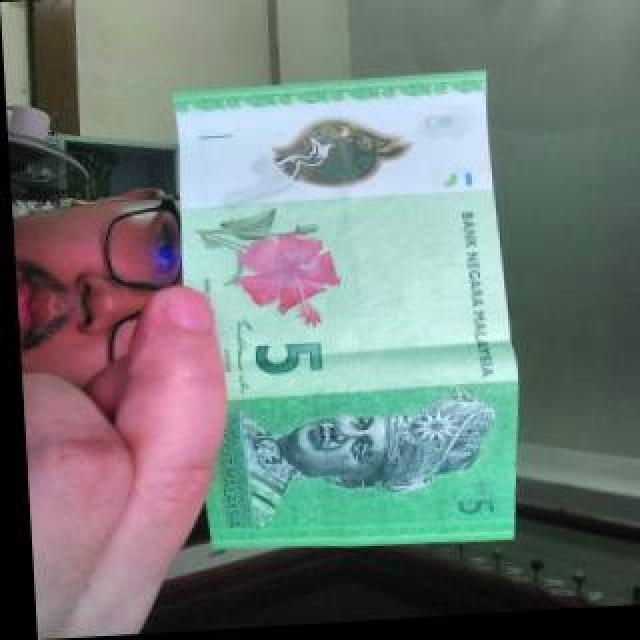5 Ringgit: (168, 73, 518, 556)
